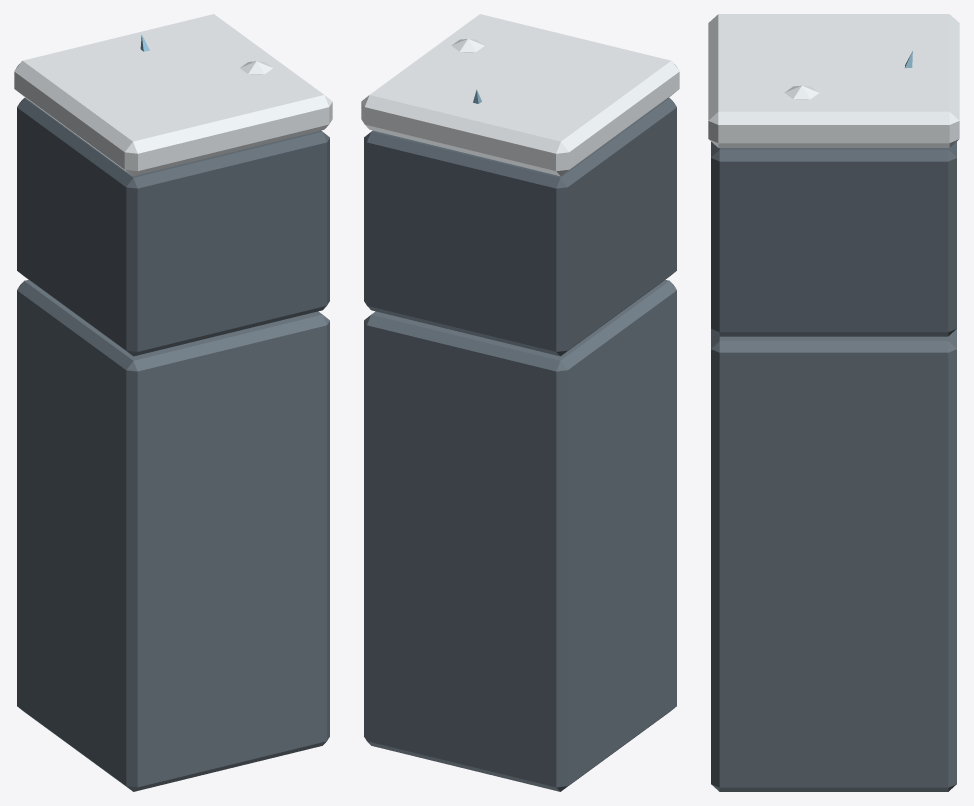
Rendered from column-rime-2.glb.
The picture shows the model from 3 angles, left to right: view 1: azimuth 30°, elevation 25°; view 2: azimuth 150°, elevation 25°; view 3: azimuth 270°, elevation 25°; orthographic projection. The views are drawn at different scales.
Parts seen in each view (by area): view 1: column-rime-2; view 2: column-rime-2; view 3: column-rime-2.
Boxes of the visible parts, <box> form: column-rime-2: <box>14,14,332,791</box>; column-rime-2: <box>361,14,679,791</box>; column-rime-2: <box>708,14,959,791</box>.
Bounding box in the file's own units: 1 × 3.06 × 1.
